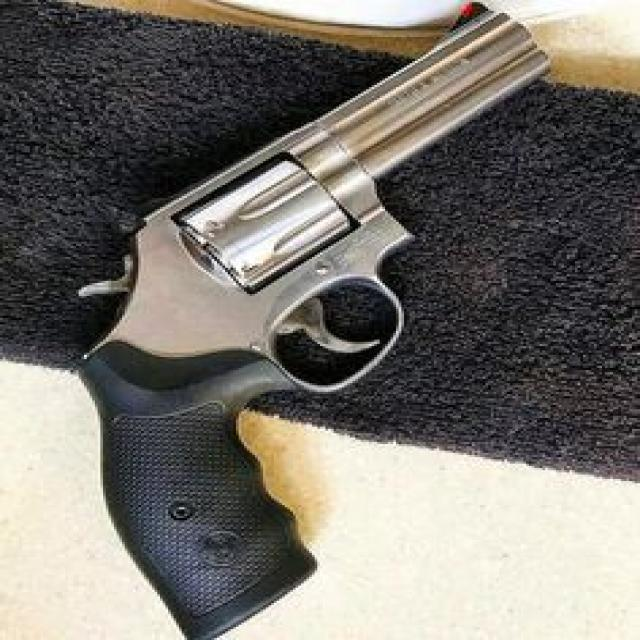revolver: (26, 4, 578, 640)
